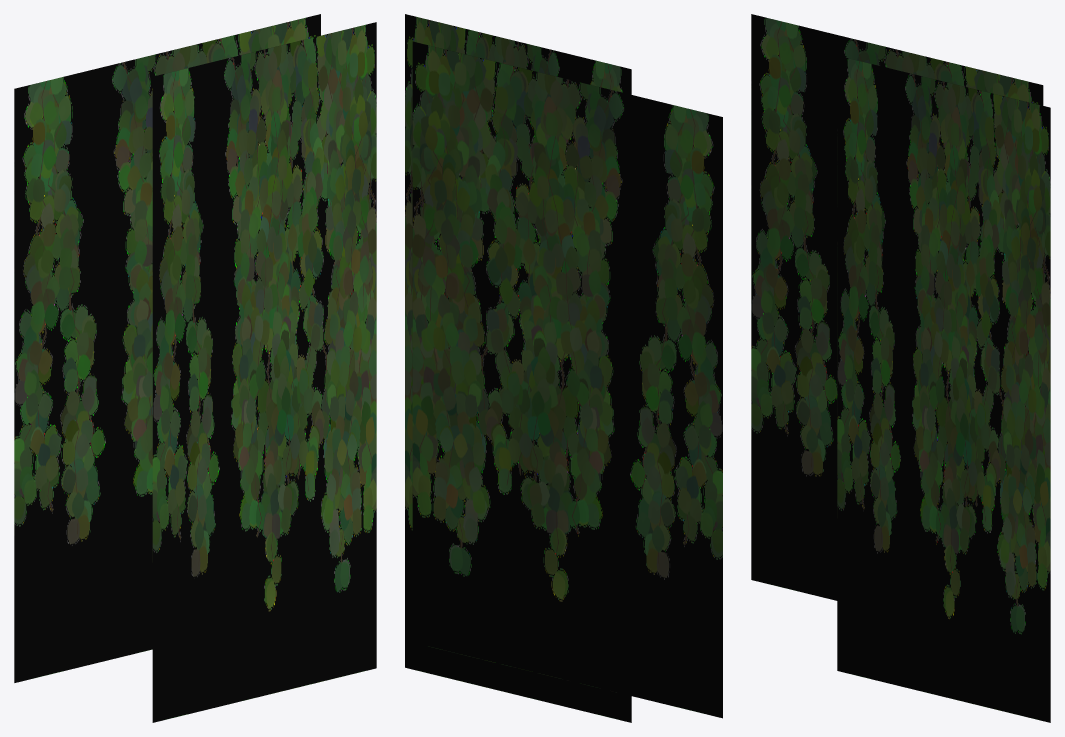
The model's file is Prop_Vine4_LOD2.gltf.
The picture shows the model from 3 angles, left to right: view 1: azimuth 30°, elevation 25°; view 2: azimuth 150°, elevation 25°; view 3: azimuth 330°, elevation 25°; orthographic projection. The views are drawn at different scales.
Visible parts, largest first — view 1: Prop_Vine4_LOD2; view 2: Prop_Vine4_LOD2; view 3: Prop_Vine4_LOD2.
Part boxes in pixels (<box>): Prop_Vine4_LOD2: <box>14,14,376,722</box>; Prop_Vine4_LOD2: <box>405,14,722,722</box>; Prop_Vine4_LOD2: <box>751,14,1050,722</box>.
Bounding box in the file's own units: 0.833 × 1.52 × 0.1025.
1 material, 1 textured.
